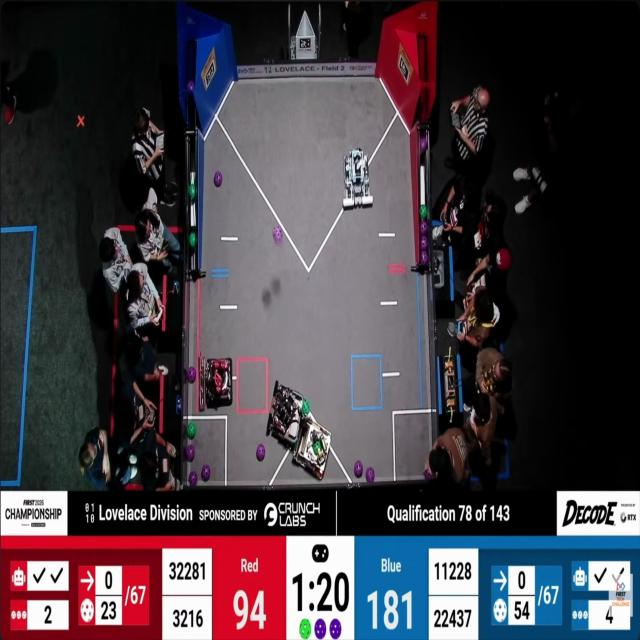artifact_green: (300, 619, 311, 639), (187, 367, 197, 383), (188, 183, 196, 200), (302, 399, 310, 416), (313, 441, 322, 456), (188, 423, 196, 439), (420, 205, 428, 219), (189, 232, 196, 247)
artifact_purple: (315, 619, 326, 639), (330, 619, 341, 639), (273, 225, 283, 244), (354, 461, 363, 478), (186, 445, 195, 461), (423, 468, 433, 482), (257, 444, 265, 461), (214, 171, 222, 187), (202, 465, 210, 481), (188, 367, 196, 383), (420, 135, 427, 153), (420, 220, 428, 235), (189, 471, 197, 486), (366, 468, 374, 482), (421, 235, 428, 250), (420, 251, 428, 264), (187, 80, 194, 91)
